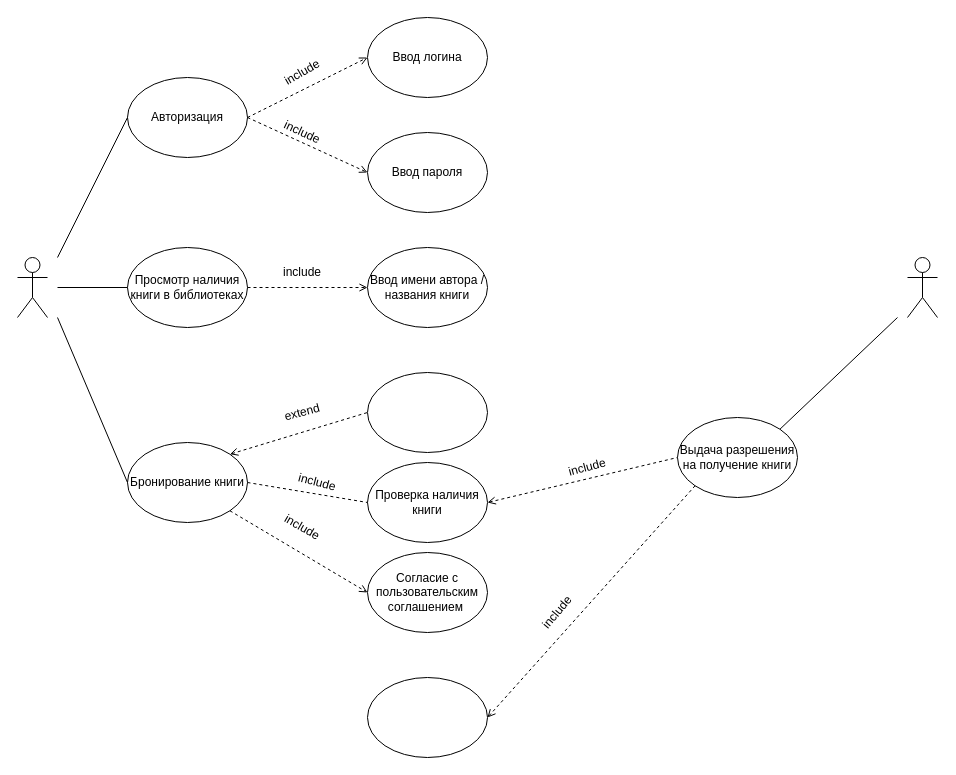
Some shapes in this 956 by 775 pixel diagram are drawn without their labels. The shapes that lost their labels are listed below. From the top down, each one's centre as x and y in pixels, then its label:
the point at 32,287: user
the point at 922,287: admin
the point at 427,412: Ввод промежутка пользования книгой
the point at 427,717: Ввод данных о пользователе
